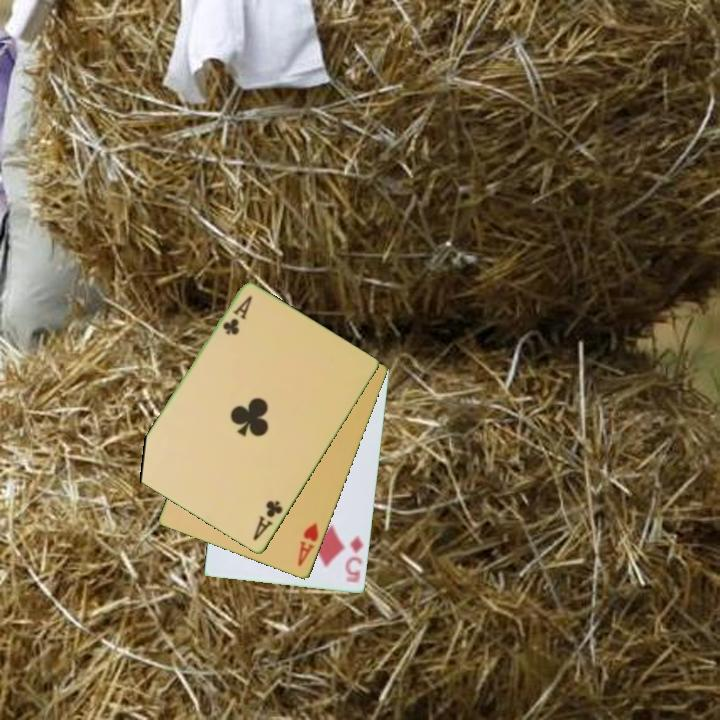5d: (342, 532, 366, 586)
Ac: (249, 497, 286, 544), (219, 292, 255, 339)
Ah: (294, 520, 322, 570)
